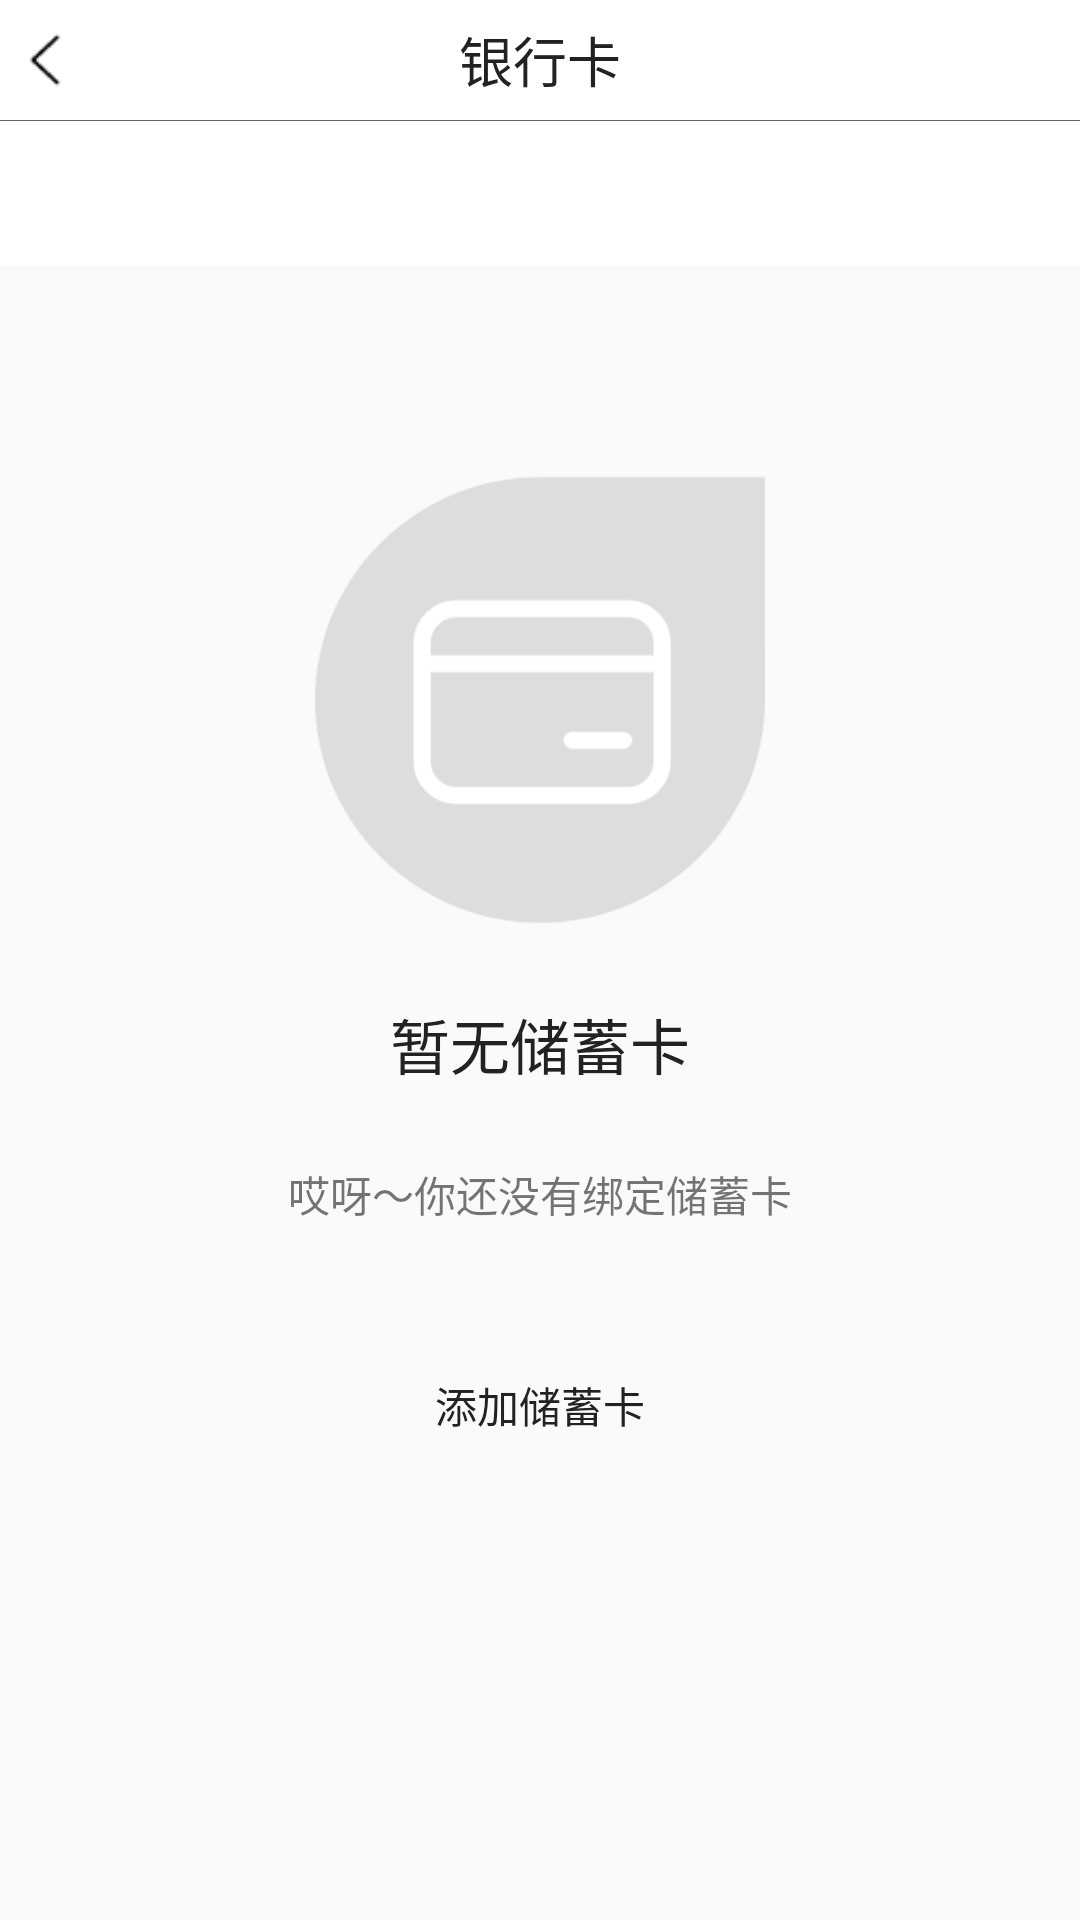

Icon bounding boxes for this 1080*1920 phone screenshot, format (x1, y1, x2, y2):
to left: (30, 34, 61, 86)
